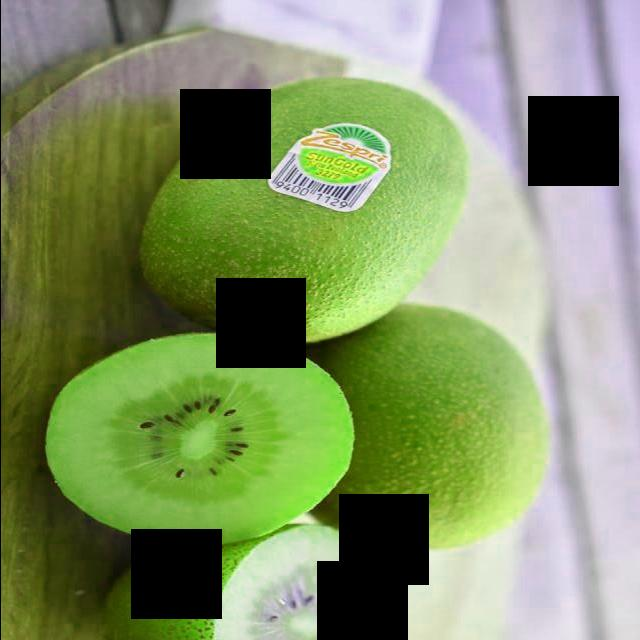kiwi: (150, 77, 480, 340), (335, 306, 556, 549)
